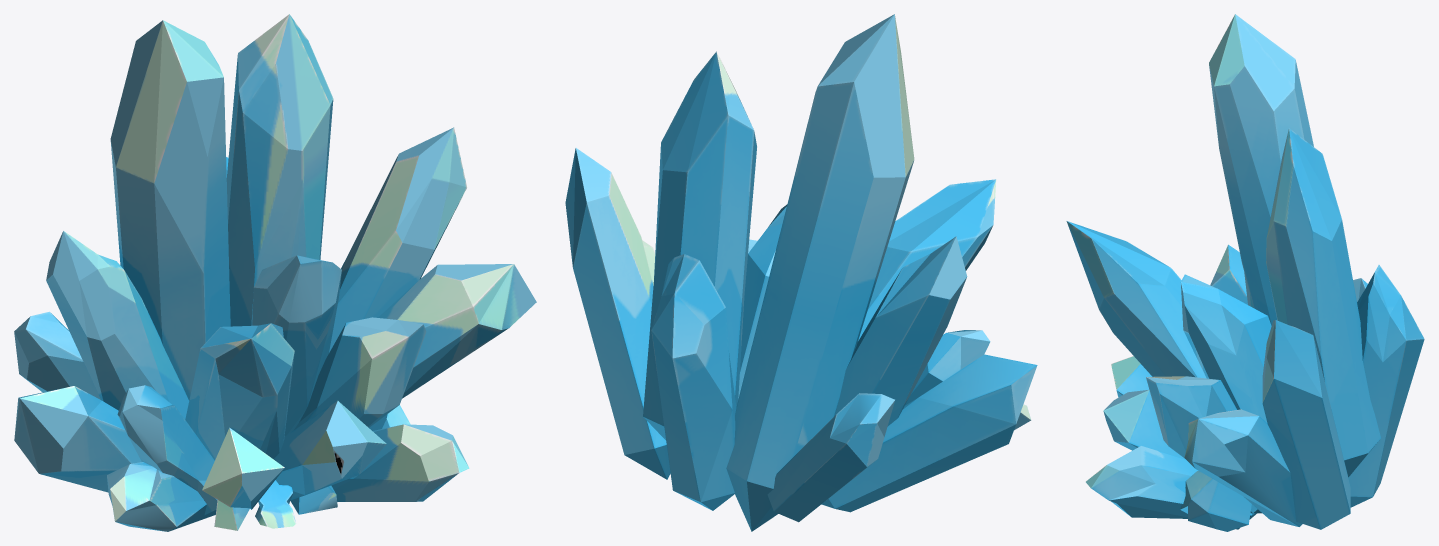
Rendered from crystalfbx.fbx.
3 renders of one model, left to right at view 1: azimuth 30°, elevation 25°; view 2: azimuth 150°, elevation 25°; view 3: azimuth 270°, elevation 25°, orthographic. The views are drawn at different scales.
Parts seen in each view (by area): view 1: crystal; view 2: crystal; view 3: crystal.
Part boxes in pixels (bbox=[...]): crystal: bbox=[14, 14, 536, 531]; crystal: bbox=[565, 14, 1037, 531]; crystal: bbox=[1066, 14, 1424, 531].
Size of the model in its own units: 34.49 by 34.75 by 25.01.
1 material, 1 textured.
